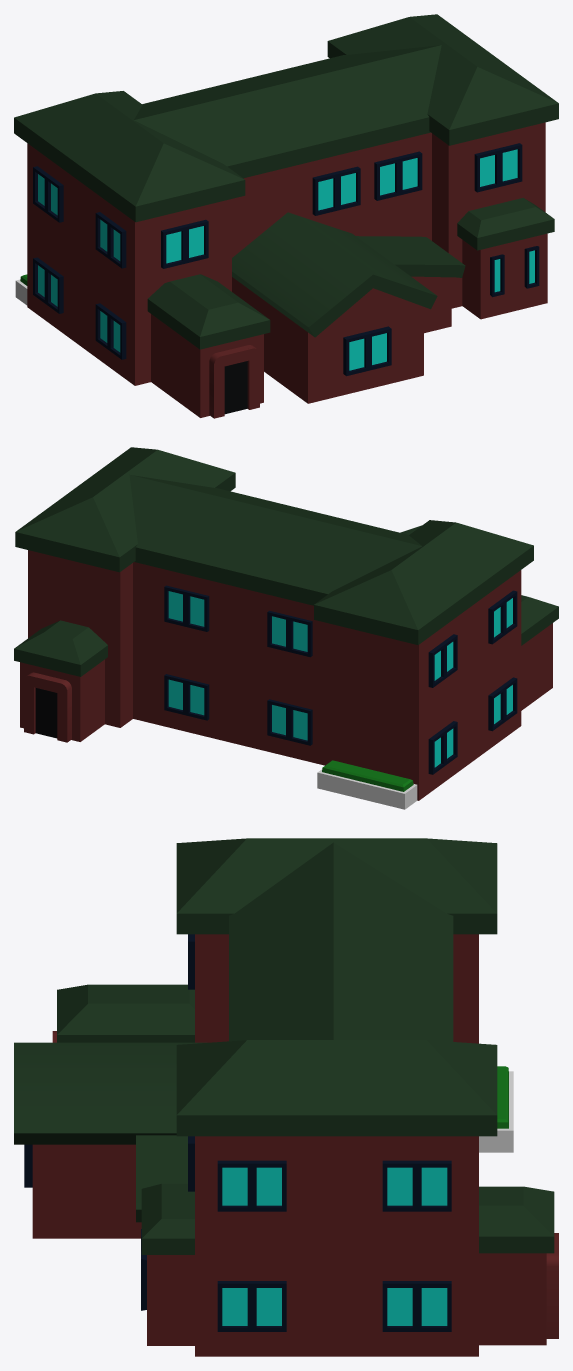
The model's file is House_3.fbx.
3 views of the same model, one above another, from view 1: azimuth 30°, elevation 25°; view 2: azimuth 150°, elevation 25°; view 3: azimuth 270°, elevation 25° (orthographic). The views are drawn at different scales.
Parts seen in each view (by area): view 1: House_3; view 2: House_3; view 3: House_3.
Part boxes in pixels (x1,y1,x2,y2): House_3: (14, 14, 558, 418); House_3: (14, 447, 558, 809); House_3: (14, 838, 558, 1356).
Bounding box in the file's own units: 88.04 × 43 × 74.48.
